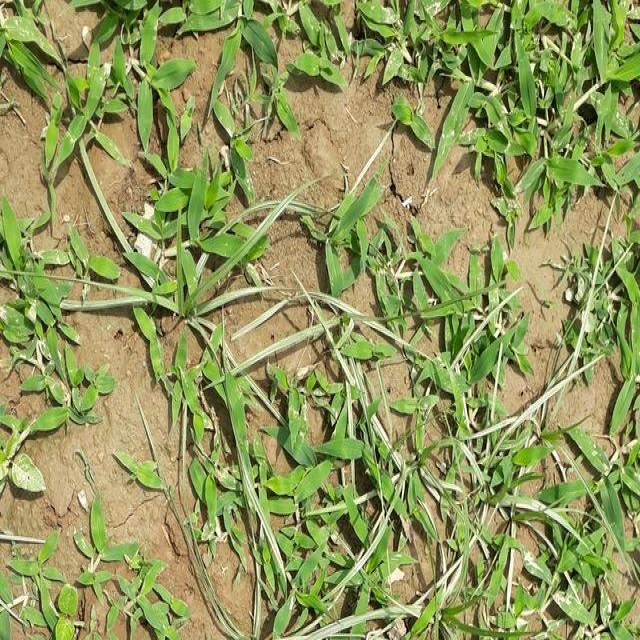weed: (127, 211, 640, 640), (112, 2, 640, 195)
